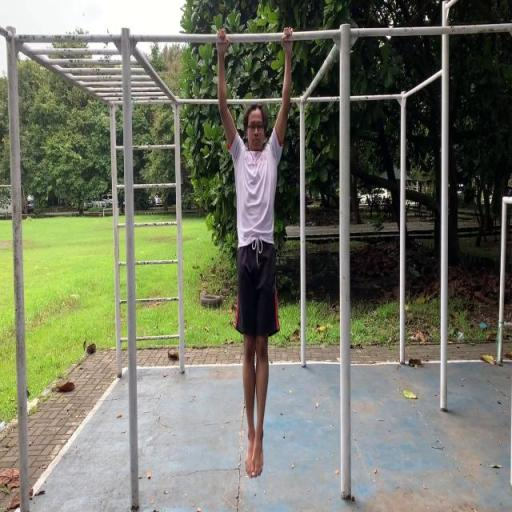Normal_BrenchPress: (214, 26, 294, 480)
